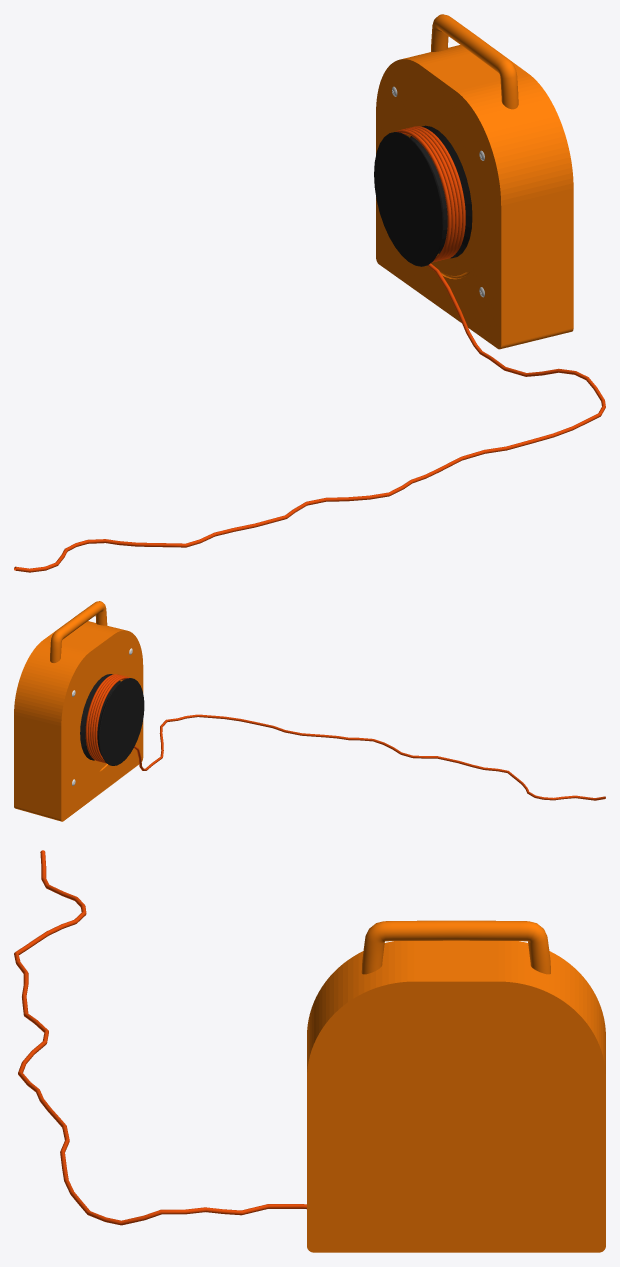
The model's file is Kabeltrommel.fbx.
3 renders of one model, top to bottom at view 1: azimuth 30°, elevation 25°; view 2: azimuth 150°, elevation 25°; view 3: azimuth 270°, elevation 25°, orthographic. The views are drawn at different scales.
Visible parts, largest first — view 1: Cube.002, Cylinder.004, Spiral.003, Vert.003; view 2: Cube.002, Cylinder.004, Spiral.003, Vert.003; view 3: Cube.002, Vert.003, Spiral.003.
Boxes of the visible parts, bbox=[...] form: Cube.002: bbox=[376, 45, 573, 349]; Cylinder.004: bbox=[374, 125, 472, 266]; Spiral.003: bbox=[14, 126, 605, 572]; Vert.003: bbox=[431, 14, 518, 109]; Cube.002: bbox=[14, 621, 143, 821]; Cylinder.004: bbox=[80, 674, 144, 765]; Spiral.003: bbox=[85, 674, 605, 800]; Vert.003: bbox=[50, 601, 107, 662]; Cube.002: bbox=[307, 940, 605, 1252]; Vert.003: bbox=[361, 920, 550, 974]; Spiral.003: bbox=[14, 850, 306, 1225].
Bounding box in the file's own units: 604 × 229 × 387.
